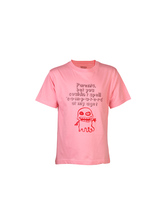clothoes: (32, 57, 132, 166)
